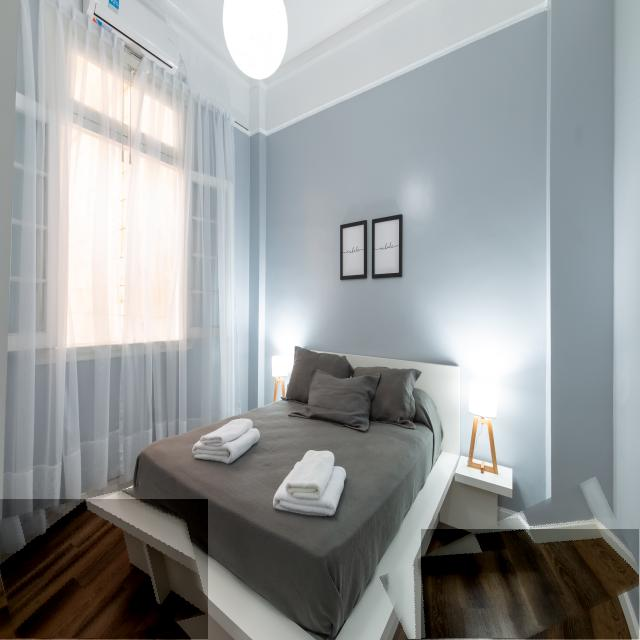floor: (0, 500, 208, 639), (421, 530, 640, 639)
